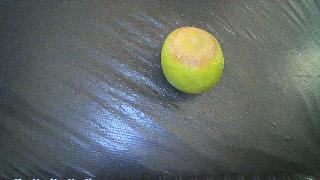DESECHO: (161, 27, 224, 94)
